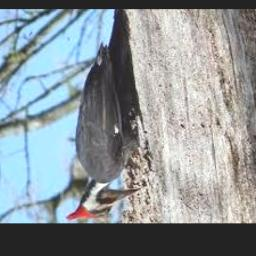Woodpecker: (66, 44, 143, 220)
